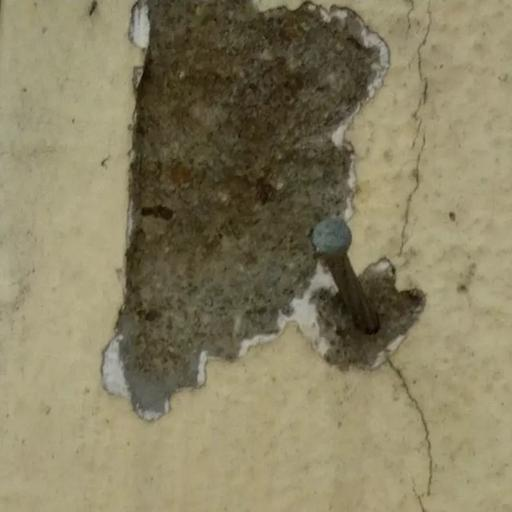peeling: (91, 6, 445, 431)
